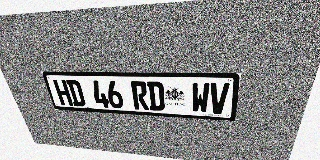4: (90, 80, 110, 108)
6: (105, 81, 124, 109)
D: (66, 80, 86, 107), (147, 81, 165, 111)
H: (53, 80, 73, 106)
R: (130, 81, 149, 110)
V: (209, 83, 230, 114)
W: (191, 82, 210, 113)
